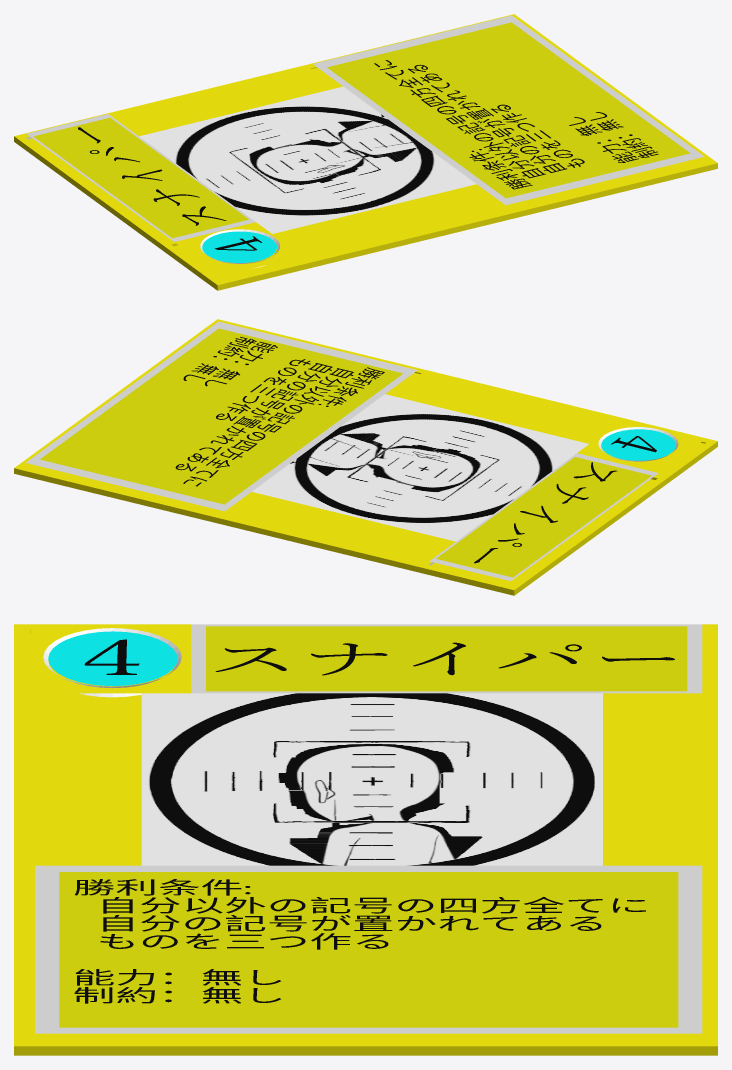
Rendered from スナイパー黄.fbx.
3 views of the same model, one above another, from view 1: azimuth 30°, elevation 25°; view 2: azimuth 150°, elevation 25°; view 3: azimuth 270°, elevation 25° (orthographic). The views are drawn at different scales.
Visible parts, largest first — view 1: 説明欄, 平面.001, カード本体.001, 名前欄, 説明文, 円, 平面, 名前; view 2: 説明欄, 平面.001, カード本体.001, 名前欄, 説明文, 円, 平面, 名前; view 3: 説明欄, 平面.001, カード本体.001, 名前欄, 説明文, 平面, 円, 名前, コスト蘭.
Boxes of the visible parts, <box> form: 説明欄: <box>313,15,704,205</box>; 平面.001: <box>139,86,476,233</box>; カード本体.001: <box>14,14,717,290</box>; 名前欄: <box>27,114,255,241</box>; 説明文: <box>374,60,658,189</box>; 円: <box>202,231,276,262</box>; 平面: <box>174,222,302,275</box>; 名前: <box>78,127,226,225</box>; 説明欄: <box>26,321,417,511</box>; 平面.001: <box>252,394,588,541</box>; カード本体.001: <box>14,319,717,595</box>; 名前欄: <box>429,453,658,581</box>; 説明文: <box>175,337,384,486</box>; 円: <box>601,429,675,460</box>; 平面: <box>577,419,704,472</box>; 名前: <box>474,462,617,563</box>; 説明欄: <box>35,865,702,1033</box>; 平面.001: <box>141,693,602,865</box>; カード本体.001: <box>14,624,717,1055</box>; 名前欄: <box>191,624,702,693</box>; 説明文: <box>74,879,645,1003</box>; 平面: <box>30,624,191,693</box>; 円: <box>48,631,177,686</box>; 名前: <box>215,642,674,675</box>; コスト蘭: <box>43,628,181,697</box>.
Size of the model in its own units: 281 by 6.07 by 198.
